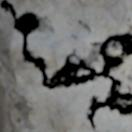brick: (0, 9, 110, 131), (9, 0, 131, 76), (95, 108, 131, 131), (111, 56, 131, 91)
crack: (0, 0, 131, 131)
